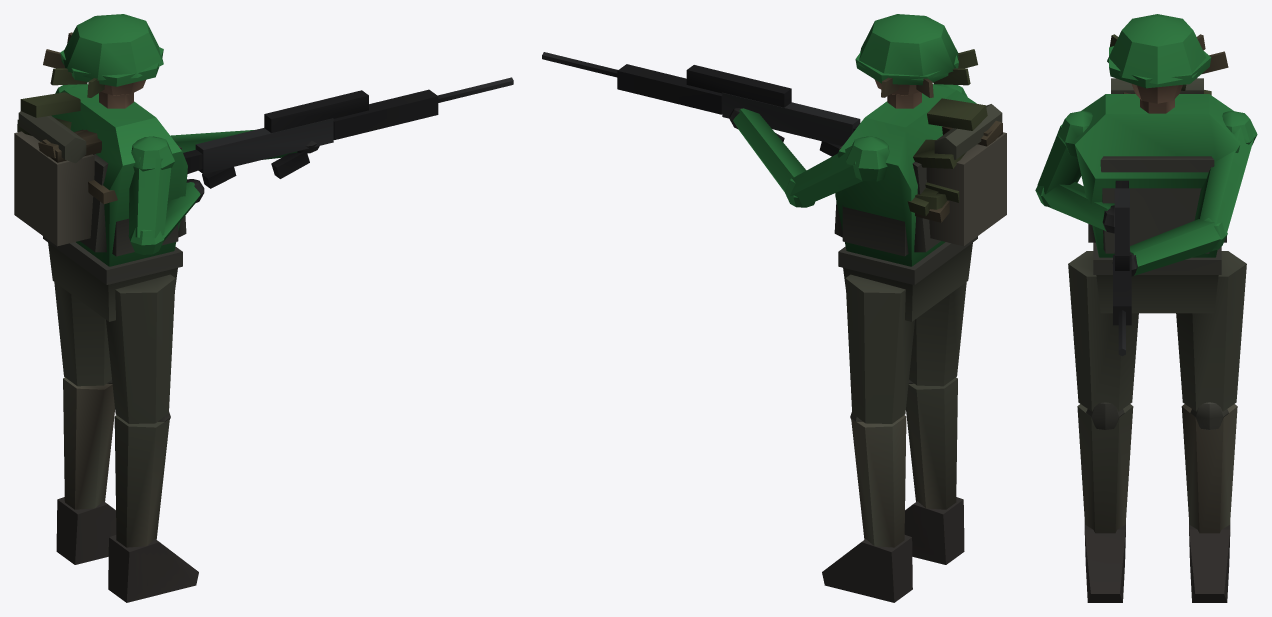
The model's file is u_sniper_lod1.glb.
3 views of the same model, side by side, from view 1: azimuth 30°, elevation 25°; view 2: azimuth 150°, elevation 25°; view 3: azimuth 270°, elevation 25° (orthographic).
Parts seen in each view (by area): view 1: Sniper_LOD1_Walls, Sniper_LOD1_shL, Sniper_LOD1_shR, Sniper_LOD1_thL, Sniper_LOD1_Details, Sniper_LOD1_thR; view 2: Sniper_LOD1_Walls, Sniper_LOD1_shR, Sniper_LOD1_shL, Sniper_LOD1_Details, Sniper_LOD1_thR, Sniper_LOD1_thL; view 3: Sniper_LOD1_Walls, Sniper_LOD1_shR, Sniper_LOD1_shL, Sniper_LOD1_thR, Sniper_LOD1_thL, Sniper_LOD1_Details.
Part boxes in pixels (x1=…): Sniper_LOD1_Walls: x1=14, y1=14, x2=513, y2=321; Sniper_LOD1_shL: x1=108, y1=412, x2=198, y2=602; Sniper_LOD1_shR: x1=56, y1=377, x2=116, y2=564; Sniper_LOD1_thL: x1=106, y1=274, x2=175, y2=423; Sniper_LOD1_Details: x1=17, y1=32, x2=182, y2=284; Sniper_LOD1_thR: x1=54, y1=282, x2=111, y2=386; Sniper_LOD1_Walls: x1=542, y1=14, x2=1006, y2=321; Sniper_LOD1_shR: x1=822, y1=412, x2=912, y2=602; Sniper_LOD1_shL: x1=904, y1=377, x2=964, y2=564; Sniper_LOD1_Details: x1=838, y1=49, x2=1002, y2=284; Sniper_LOD1_thR: x1=845, y1=274, x2=914, y2=423; Sniper_LOD1_thL: x1=909, y1=282, x2=966, y2=386; Sniper_LOD1_Walls: x1=1035, y1=14, x2=1257, y2=356; Sniper_LOD1_shR: x1=1181, y1=402, x2=1237, y2=602; Sniper_LOD1_shL: x1=1077, y1=402, x2=1133, y2=602; Sniper_LOD1_thR: x1=1176, y1=251, x2=1246, y2=411; Sniper_LOD1_thL: x1=1068, y1=251, x2=1138, y2=411; Sniper_LOD1_Details: x1=1093, y1=34, x2=1228, y2=274.
Size of the model in its own units: 0.5183 by 0.5985 by 0.2147.
